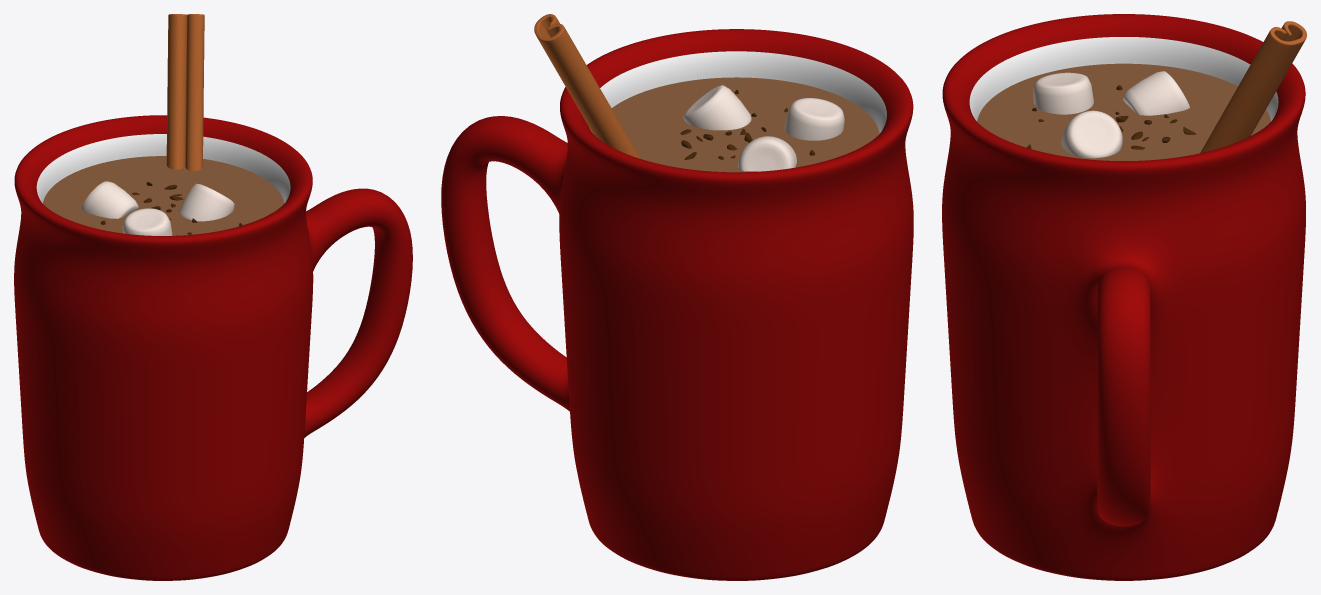
File: mug_chokolate.glb
3 views of the same model, side by side, from view 1: azimuth 30°, elevation 25°; view 2: azimuth 150°, elevation 25°; view 3: azimuth 270°, elevation 25° (orthographic). The views are drawn at different scales.
Visible parts, largest first — view 1: pCylinder1, pDisc1, pCube19, pCylinder3, pCylinder2, pCylinder4; view 2: pCylinder1, pDisc1, pCube19, pCylinder4, pCylinder3, pCylinder2; view 3: pCylinder1, pDisc1, pCube19, pCylinder3, pCylinder4, pCylinder2.
Boxes of the visible parts, x1=… form: pCylinder1: x1=14, y1=115, x2=412, y2=580; pDisc1: x1=43, y1=156, x2=284, y2=235; pCube19: x1=166, y1=14, x2=204, y2=170; pCylinder3: x1=179, y1=183, x2=234, y2=221; pCylinder2: x1=81, y1=181, x2=138, y2=218; pCylinder4: x1=122, y1=208, x2=172, y2=235; pCylinder1: x1=441, y1=29, x2=913, y2=580; pDisc1: x1=611, y1=77, x2=879, y2=172; pCube19: x1=534, y1=14, x2=639, y2=158; pCylinder4: x1=784, y1=98, x2=844, y2=140; pCylinder3: x1=683, y1=85, x2=751, y2=130; pCylinder2: x1=738, y1=136, x2=796, y2=171; pCylinder1: x1=942, y1=14, x2=1305, y2=580; pDisc1: x1=977, y1=63, x2=1270, y2=160; pCube19: x1=1200, y1=21, x2=1306, y2=153; pCylinder3: x1=1061, y1=110, x2=1122, y2=158; pCylinder4: x1=1033, y1=72, x2=1093, y2=114; pCylinder2: x1=1123, y1=71, x2=1189, y2=115.
Size of the model in its own units: 0.228 by 0.2609 by 0.158.
